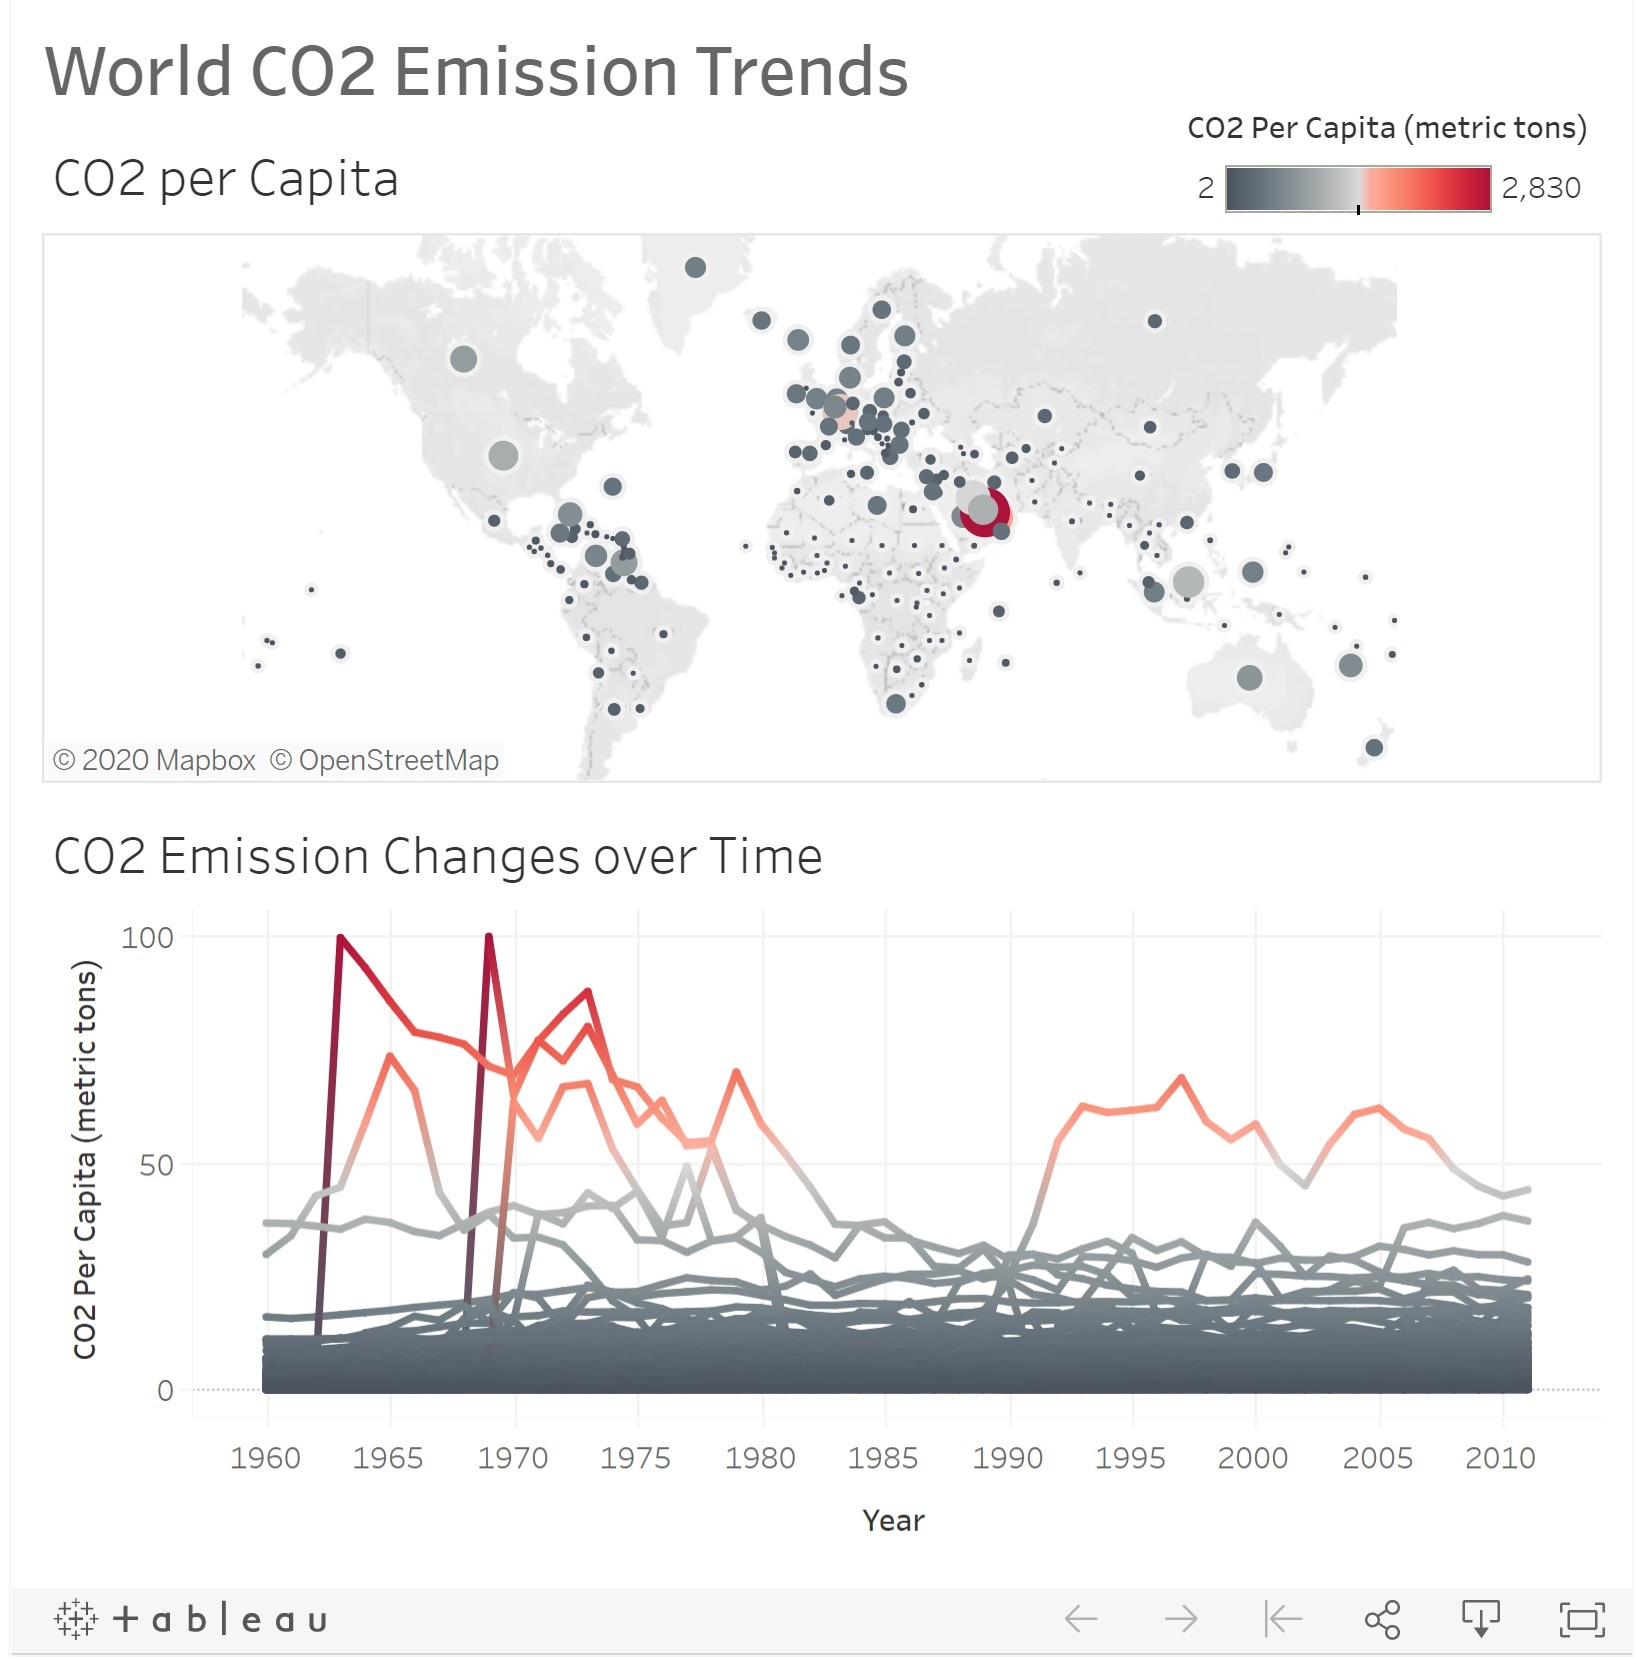

What the dashboard file says about the page in this screenshot:
{"tool":"tableau","page":{"name":"Dashboard 1","canvas":[650,860],"ordinal":0},"visuals":[{"type":"worksheet","box":[0,0,650,860]},{"type":"worksheet","box":[8,12.3,634,50.7]},{"type":"worksheet","title":"CO2 per Capita","mark":"Automatic","param":"[federated.1vi1m1f03zlkcr1bcxv640qnev1m].[sum:CO2 Per Capita (metric tons):qk]","box":[471,56.8,164,73.7]},{"type":"worksheet","param":"horz","box":[8,63,634,784.8]},{"type":"worksheet","box":[8,63,634,784.8]},{"type":"worksheet","title":"CO2 per Capita","mark":"Automatic","box":[8,63,634,367]},{"type":"worksheet","title":"CO2 Emission Changes over Time","mark":"Automatic","rows":["CO2 Per Capita (metric tons)"],"cols":["Year"],"box":[8,430,634,417.7]}]}

Visuals, with their boxes on the page's 650x860 design canvas (x1, y1, x2, y2). These are canvas units, not pixel positions in the 1647x1658 screenshot, which may show the page scaled, cropped or inside an application window:
worksheet: crop(0, 0, 650, 860)
worksheet: crop(8, 12, 642, 63)
"CO2 per Capita" worksheet: crop(471, 57, 635, 130)
worksheet: crop(8, 63, 642, 848)
worksheet: crop(8, 63, 642, 848)
"CO2 per Capita" worksheet: crop(8, 63, 642, 430)
"CO2 Emission Changes over Time" worksheet: crop(8, 430, 642, 848)
